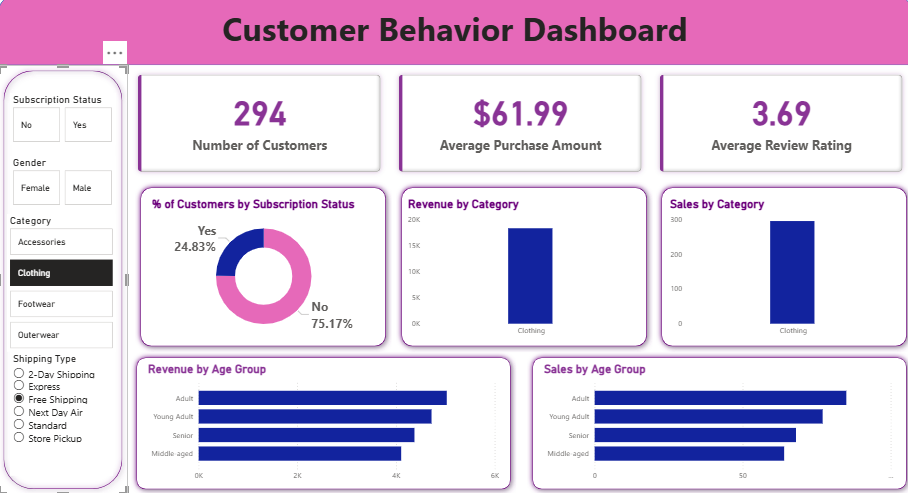

This screenshot's page, from the dashboard's own definition file:
{"tool":"powerbi","page":{"name":"Page 1","canvas":[1500,820],"ordinal":0},"visuals":[{"type":"cardVisual","fields":{"Data":["public customer.Number of Customers","public customer.Average Purchase Amount","public customer.Average Review Rating"]},"box":[212.9,115.3,1286.5,191.6],"z":2000},{"type":"shape","box":[218.3,585.6,631.7,234.2],"z":2500,"group":"g1"},{"type":"shape","box":[0,0,1499.4,115.3],"z":3000},{"type":"textbox","box":[0,12.4,1499.4,102.9],"z":4000},{"type":"shape","box":[225.4,307,420.5,278.6],"z":5000},{"type":"donutChart","title":"% of Customers by Subscription Status","fields":{"Category":["public customer.subscription_status"],"Y":["CountNonNull(public customer.customer_id)"]},"box":[248.4,331.8,376.2,237.8],"z":6000},{"type":"shape","box":[1078.9,307,420.5,278.6],"z":7000},{"type":"shape","box":[652.1,307,420.5,278.6],"z":8000},{"type":"clusteredColumnChart","title":"Revenue by Category","fields":{"Y":["Sum(public customer.purchase_amount)"],"Category":["public customer.category"]},"box":[667.2,331.8,385.1,237.8],"z":9000},{"type":"clusteredColumnChart","title":"Sales by Category","fields":{"Y":["CountNonNull(public customer.customer_id)"],"Category":["public customer.category"]},"box":[1096.6,331.8,385.1,237.8],"z":10000},{"type":"shape","box":[0,115.3,212.9,704.5],"z":11000},{"type":"advancedSlicerVisual","fields":{"Values":["public customer.subscription_status"]},"box":[19.5,161.5,173.9,85.2],"z":12000},{"type":"advancedSlicerVisual","fields":{"Values":["public customer.gender"]},"box":[19.5,264.4,173.9,85.2],"z":13000},{"type":"advancedSlicerVisual","fields":{"Values":["public customer.category"]},"box":[14.8,359.2,178.8,226.3],"z":14000},{"type":"listSlicer","fields":{"Values":["public customer.shipping_type"]},"box":[19.7,585.5,168.9,203.4],"z":15000},{"type":"shape","box":[867.7,585.6,631.7,234.2],"z":16000},{"type":"clusteredBarChart","title":"Sales by Age Group","fields":{"Y":["CountNonNull(public customer.customer_id)"],"Category":["public customer.age_group"]},"box":[890.8,601.5,585.6,204.1],"z":17000},{"type":"clusteredBarChart","title":"Revenue by Age Group","fields":{"Y":["Sum(public customer.purchase_amount)"],"Category":["public customer.age_group"]},"box":[241.4,601.6,585.6,204.1],"z":17500,"group":"g1"},{"type":"group","id":"g1","title":"Group 1","box":[218.3,585.6,631.7,234.2],"z":17501}]}

Visuals, with their boxes in screenshot pixels (x1, y1, x2, y2):
cardVisual - public customer.Number of Customers x public customer.Average Purchase Amount: Rect(131, 64, 907, 181)
shape: Rect(134, 352, 521, 492)
shape: Rect(0, 0, 907, 64)
textbox: Rect(0, 1, 907, 64)
shape: Rect(138, 181, 396, 352)
"% of Customers by Subscription Status" donutChart: Rect(152, 196, 383, 342)
shape: Rect(661, 181, 907, 352)
shape: Rect(400, 181, 658, 352)
"Revenue by Category" clusteredColumnChart: Rect(409, 196, 645, 342)
"Sales by Category" clusteredColumnChart: Rect(672, 196, 907, 342)
shape: Rect(0, 64, 131, 492)
advancedSlicerVisual - public customer.subscription_status: Rect(12, 92, 119, 144)
advancedSlicerVisual - public customer.gender: Rect(12, 155, 119, 207)
advancedSlicerVisual - public customer.category: Rect(9, 213, 119, 352)
listSlicer - public customer.shipping_type: Rect(12, 352, 116, 477)
shape: Rect(532, 352, 907, 492)
"Sales by Age Group" clusteredBarChart: Rect(546, 362, 905, 487)
"Revenue by Age Group" clusteredBarChart: Rect(148, 362, 507, 487)
"Group 1" group: Rect(134, 352, 521, 492)
